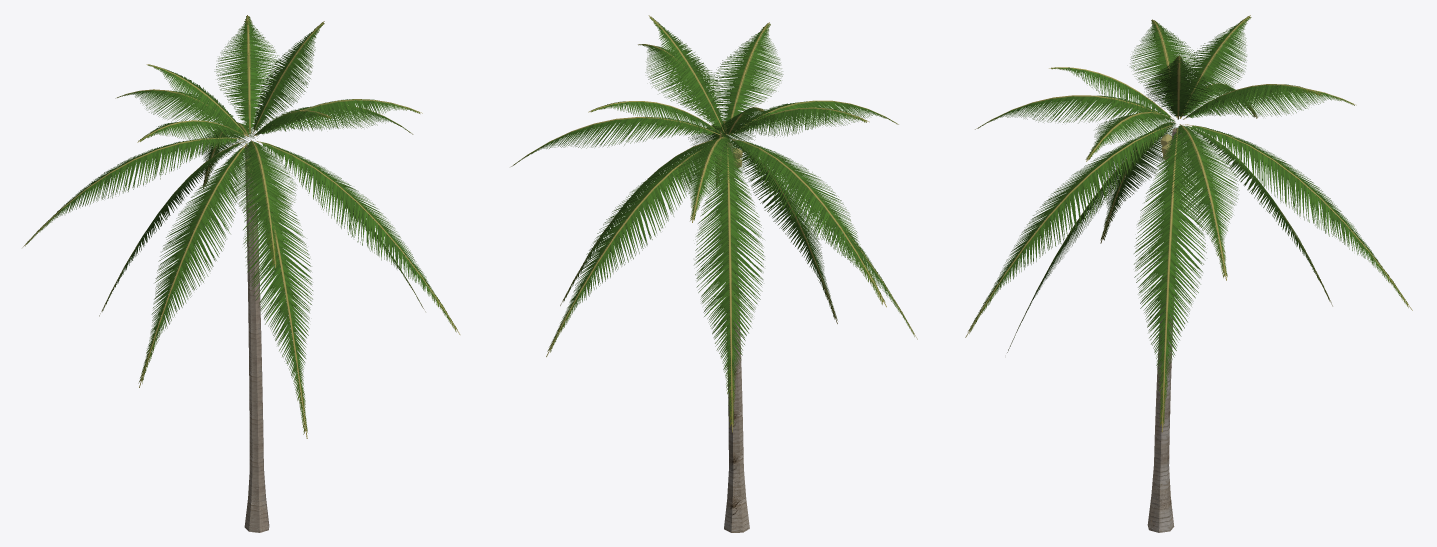
The model's file is palm_c.glb.
3 views of the same model, side by side, from view 1: azimuth 30°, elevation 25°; view 2: azimuth 150°, elevation 25°; view 3: azimuth 270°, elevation 25° (orthographic). The views are drawn at different scales.
Parts seen in each view (by area): view 1: palm_c; view 2: palm_c; view 3: palm_c.
Part boxes in pixels (bbox=[...]): palm_c: bbox=[22, 15, 460, 532]; palm_c: bbox=[511, 15, 917, 532]; palm_c: bbox=[965, 15, 1412, 532].
Bounding box in the file's own units: 8.77 × 10.31 × 8.58.
3 materials, 2 textured.
